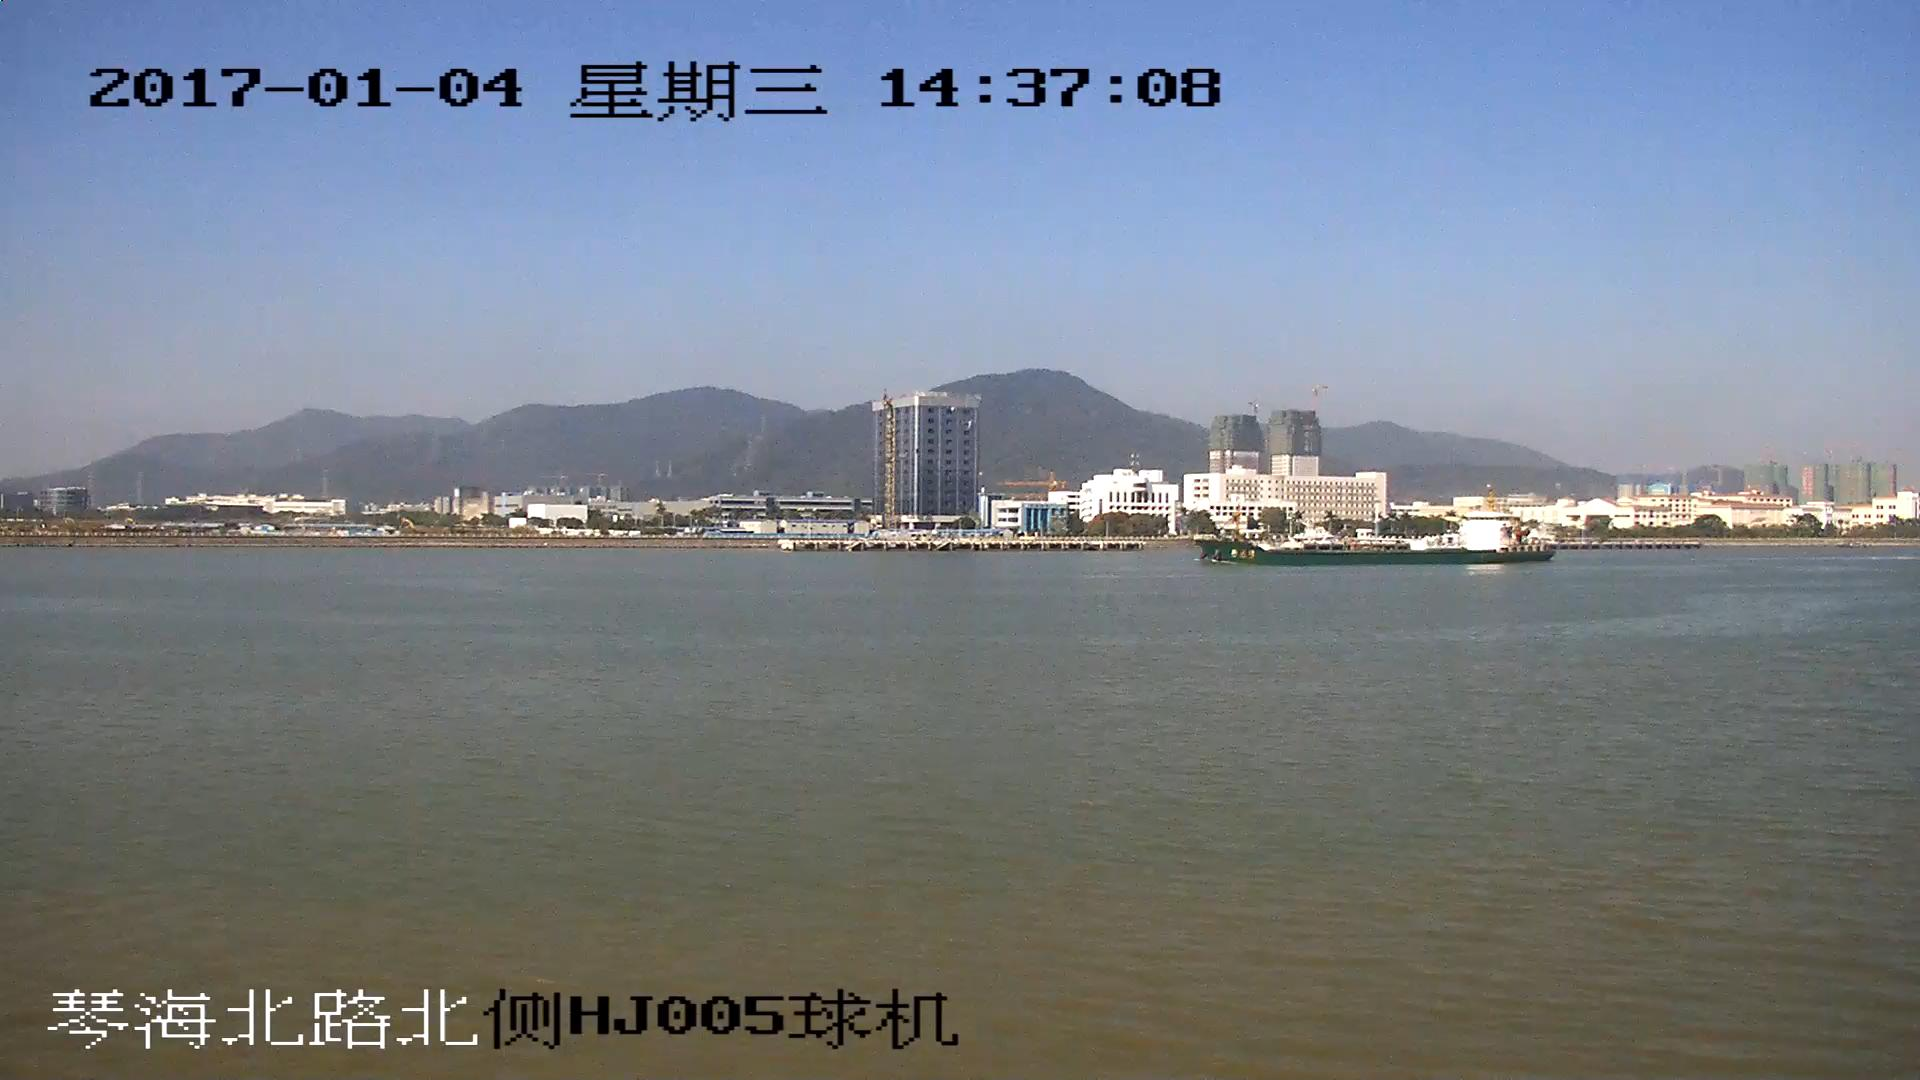general cargo ship: (1204, 504, 1556, 565)
